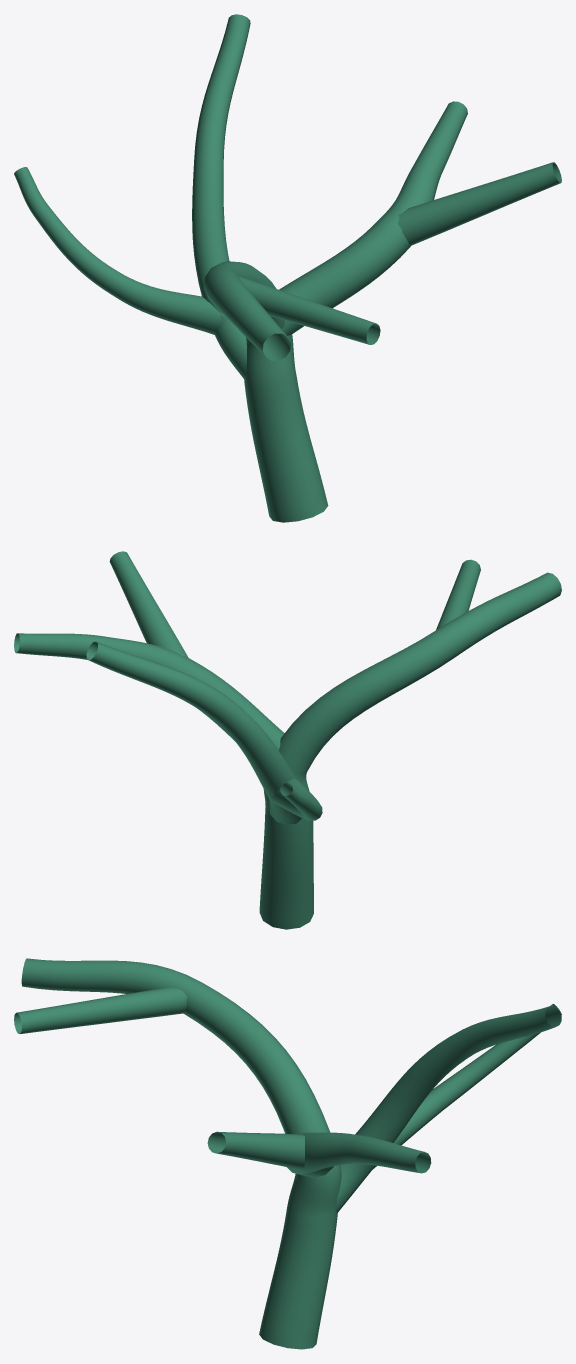
3 renders of one model, top to bottom at view 1: azimuth 30°, elevation 25°; view 2: azimuth 150°, elevation 25°; view 3: azimuth 270°, elevation 25°, orthographic. The views are drawn at different scales.
Visible parts, largest first — view 1: 左肺下叶上段支气管（第6段）; view 2: 左肺下叶上段支气管（第6段）; view 3: 左肺下叶上段支气管（第6段）.
Part boxes in pixels (box(x1,y1,x2,y2)): 左肺下叶上段支气管（第6段）: box(14, 14, 561, 522); 左肺下叶上段支气管（第6段）: box(14, 551, 561, 929); 左肺下叶上段支气管（第6段）: box(14, 958, 561, 1349).
Size of the model in its own units: 0.0916 by 0.0832 by 0.1106.
